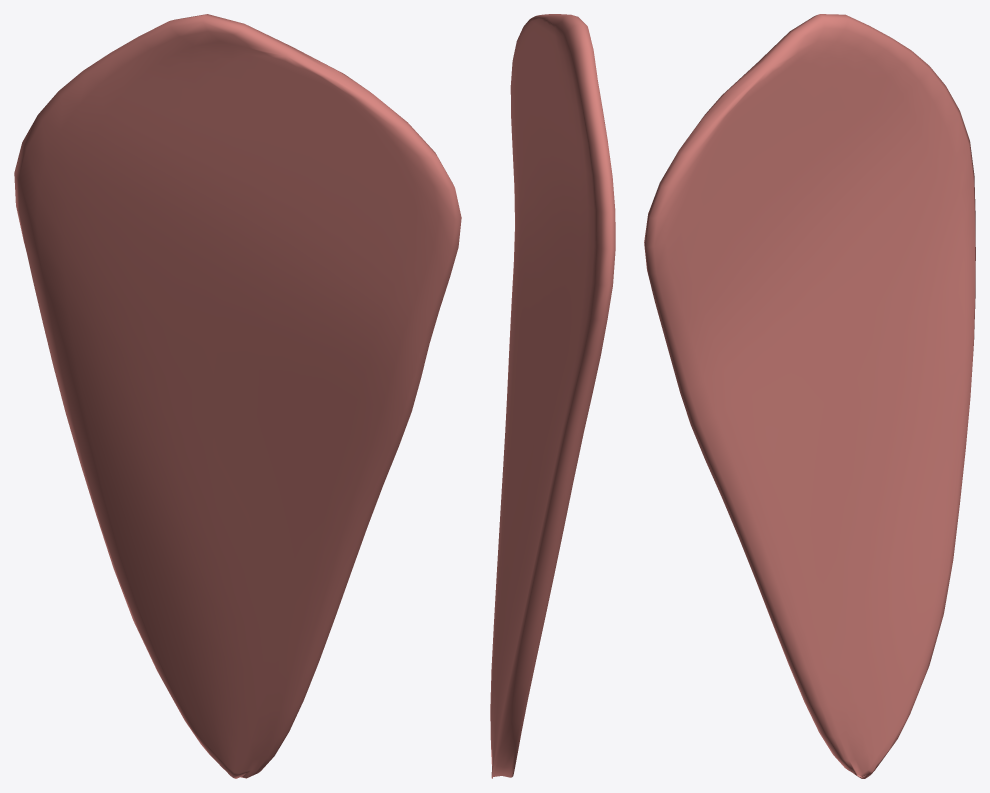
3 renders of one model, left to right at view 1: azimuth 30°, elevation 25°; view 2: azimuth 150°, elevation 25°; view 3: azimuth 270°, elevation 25°, orthographic. The views are drawn at different scales.
Parts seen in each view (by area): view 1: ZA_d704248efc9b676c; view 2: ZA_d704248efc9b676c; view 3: ZA_d704248efc9b676c.
Boxes of the visible parts, x1=… form: ZA_d704248efc9b676c: x1=14, y1=14, x2=461, y2=778; ZA_d704248efc9b676c: x1=490, y1=14, x2=615, y2=778; ZA_d704248efc9b676c: x1=644, y1=14, x2=975, y2=778.
Bounding box in the file's own units: 0.0137 × 0.038 × 0.0156.
